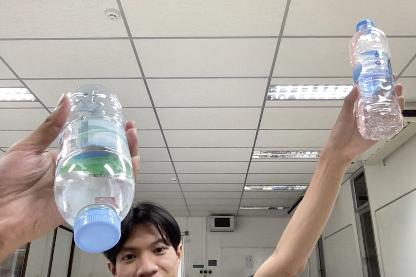Plastic Bottle: (54, 84, 134, 256), (352, 17, 404, 141)
